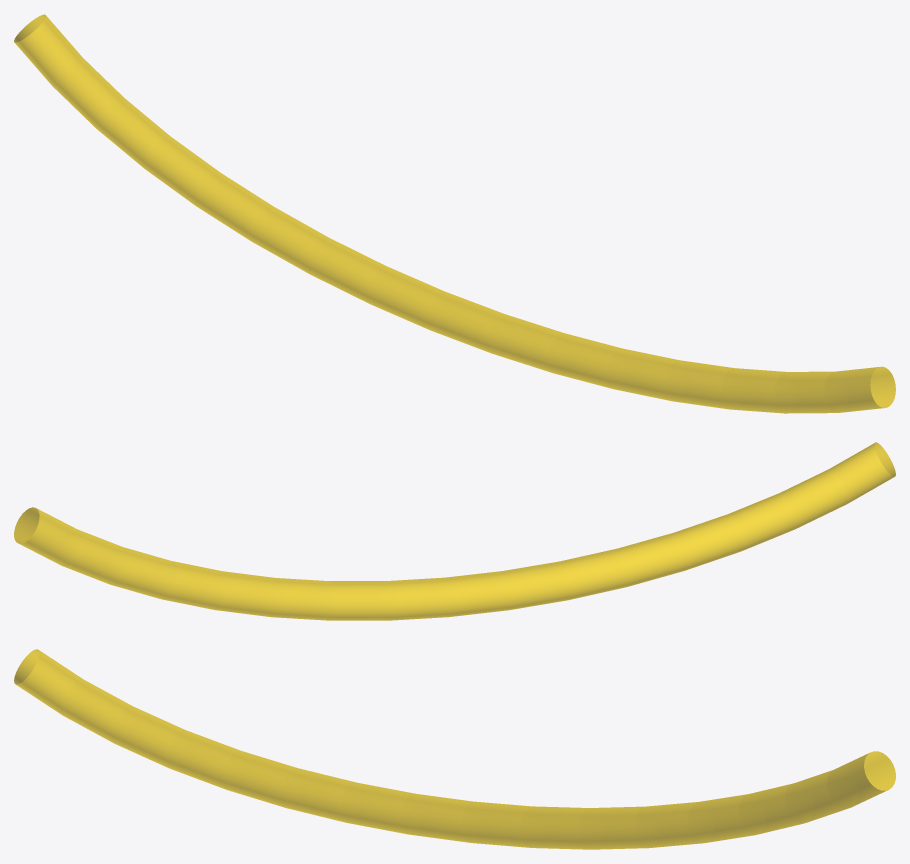
Rendered from Event_31209032_track_39.fbx.
3 renders of one model, top to bottom at view 1: azimuth 90°, elevation 25°; view 2: azimuth 150°, elevation 25°; view 3: azimuth 270°, elevation 25°, orthographic. The views are drawn at different scales.
Parts seen in each view (by area): view 1: Model; view 2: Model; view 3: Model.
Boxes of the visible parts, x1,y1,x2,y2 form: Model: (14,14,895,413); Model: (14,442,895,620); Model: (14,649,895,849).
Size of the model in its own units: 0.559 by 0.2254 by 0.8455.
